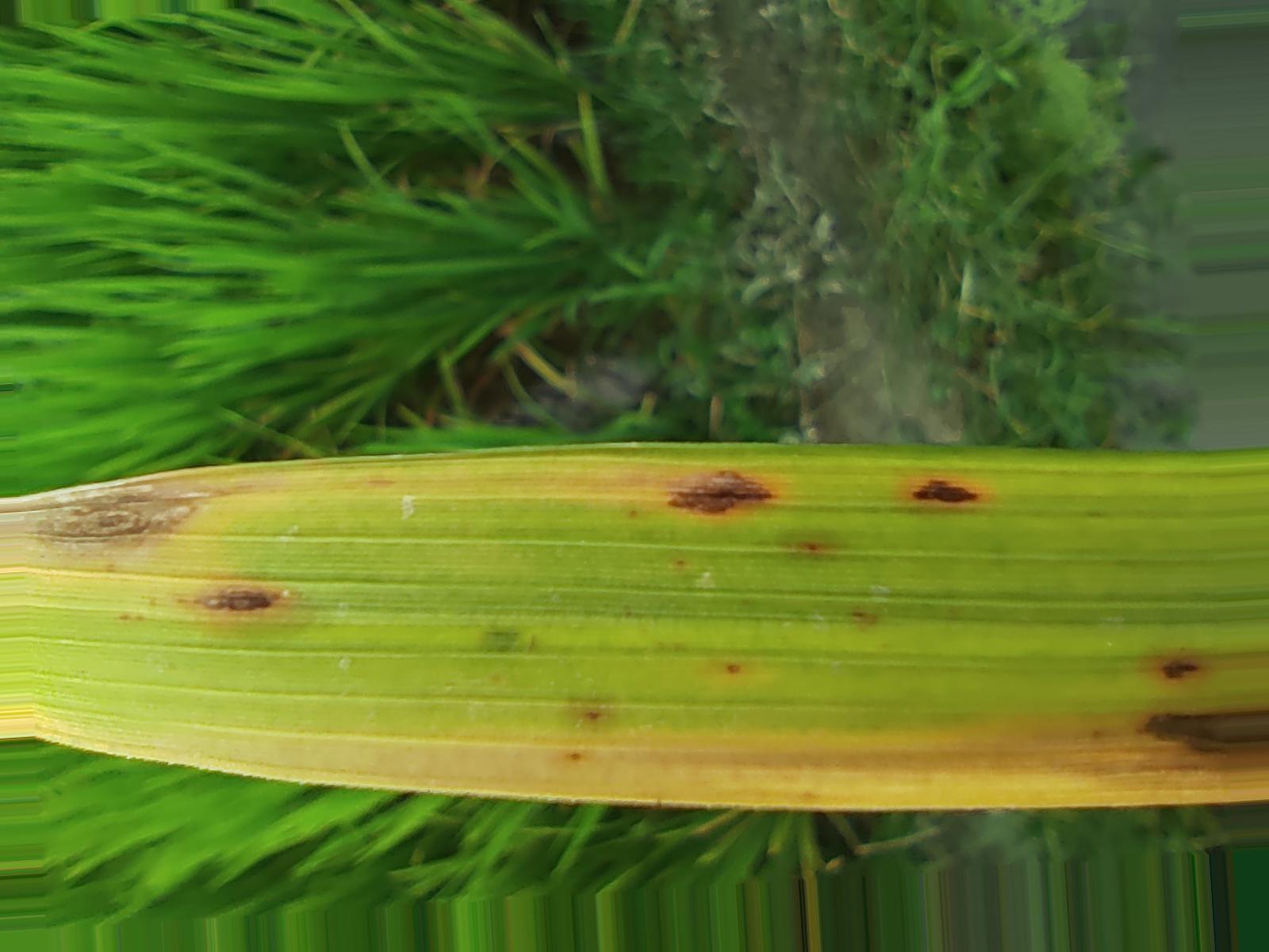LEAF: (32, 443, 1268, 810)
NBS: (175, 585, 285, 617), (898, 476, 989, 504), (565, 692, 624, 725), (795, 540, 827, 554), (853, 611, 876, 628), (726, 663, 743, 674), (115, 615, 142, 621)
